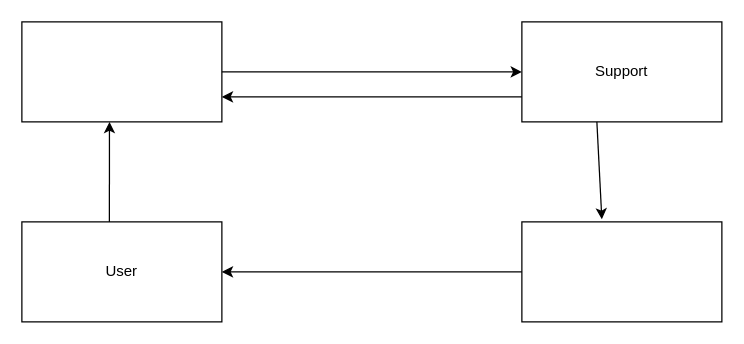
The diagram is 744 pixels wide and 344 high, and some of its shapes have lost their labels. The box of each missing label's shape, as (x1, y1, x2, y2) in pixels:
Email: (521, 221, 722, 322)
Incident: (21, 21, 222, 122)
